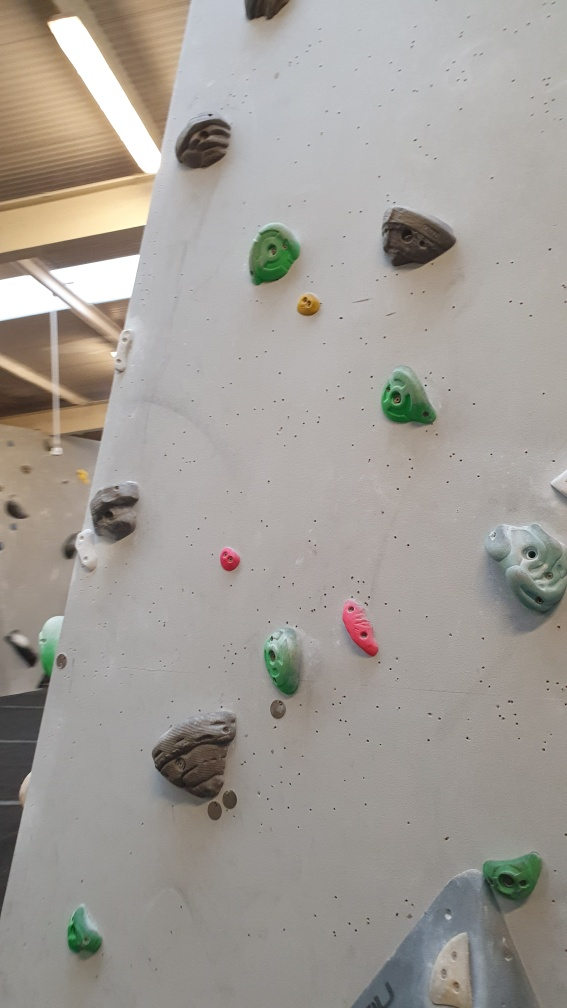Hand Start: (220, 786, 240, 814), (266, 701, 288, 722), (52, 652, 72, 672), (207, 803, 224, 821)
Jug: (152, 711, 246, 798), (483, 521, 567, 617), (378, 202, 456, 271), (85, 477, 147, 543), (173, 114, 234, 171), (249, 221, 302, 286), (260, 625, 304, 703), (381, 367, 440, 424)
